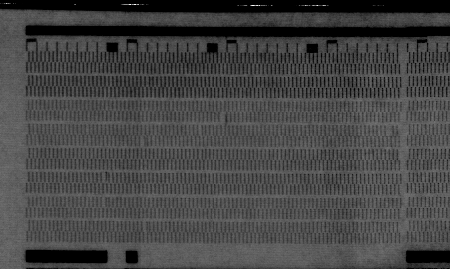Broken hole: (383, 125, 395, 139), (217, 111, 228, 124)
Oblique printing: (98, 170, 112, 185), (136, 135, 150, 148), (140, 220, 152, 232)
